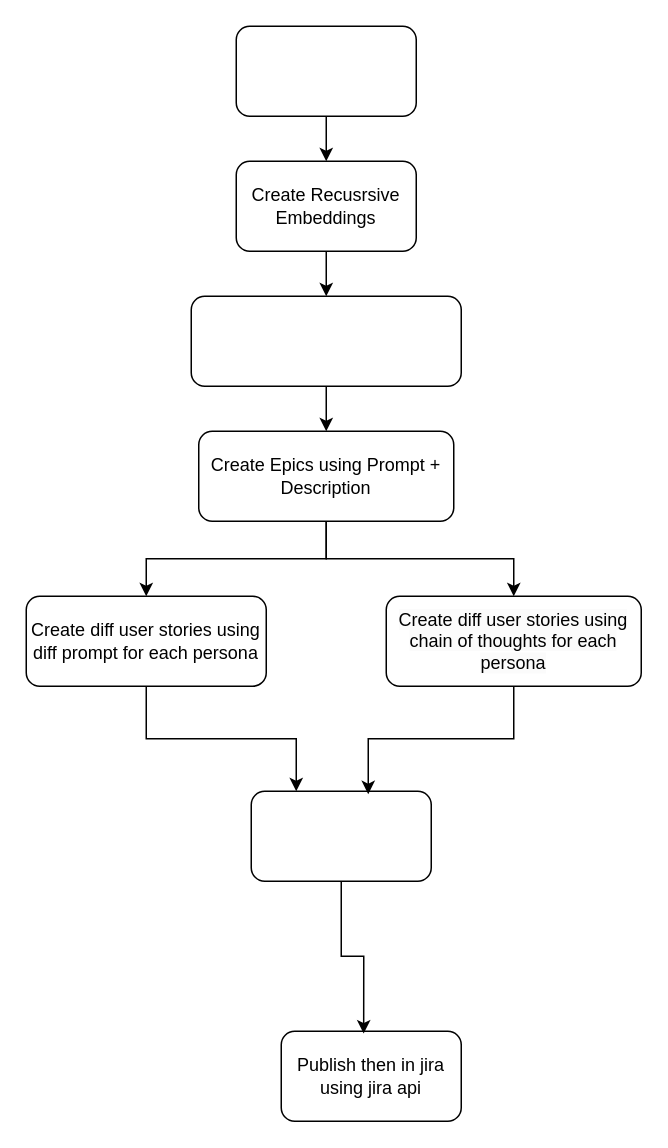
This 668x1148 diagram has some shape labels left out. The shapes that lost their labels are listed below. From the top down, each one's centre as x and y in pixels, then its label:
point (325, 70): User Input doc
point (325, 340): Filter out necessary details and create detailed summary out of it
point (340, 835): Create stories using Azure Open Ai
